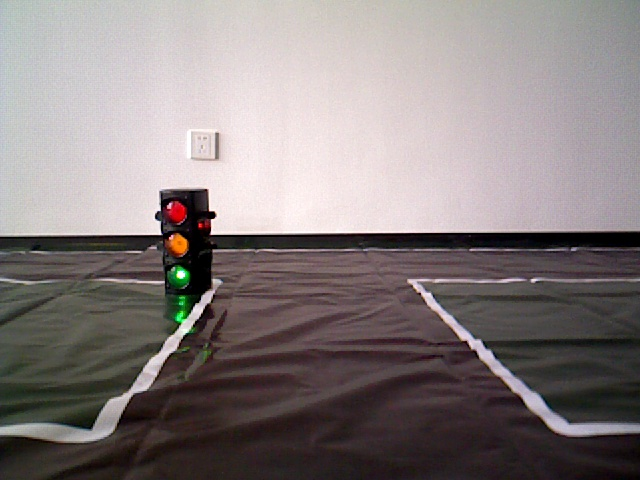green: (160, 193, 207, 288)
